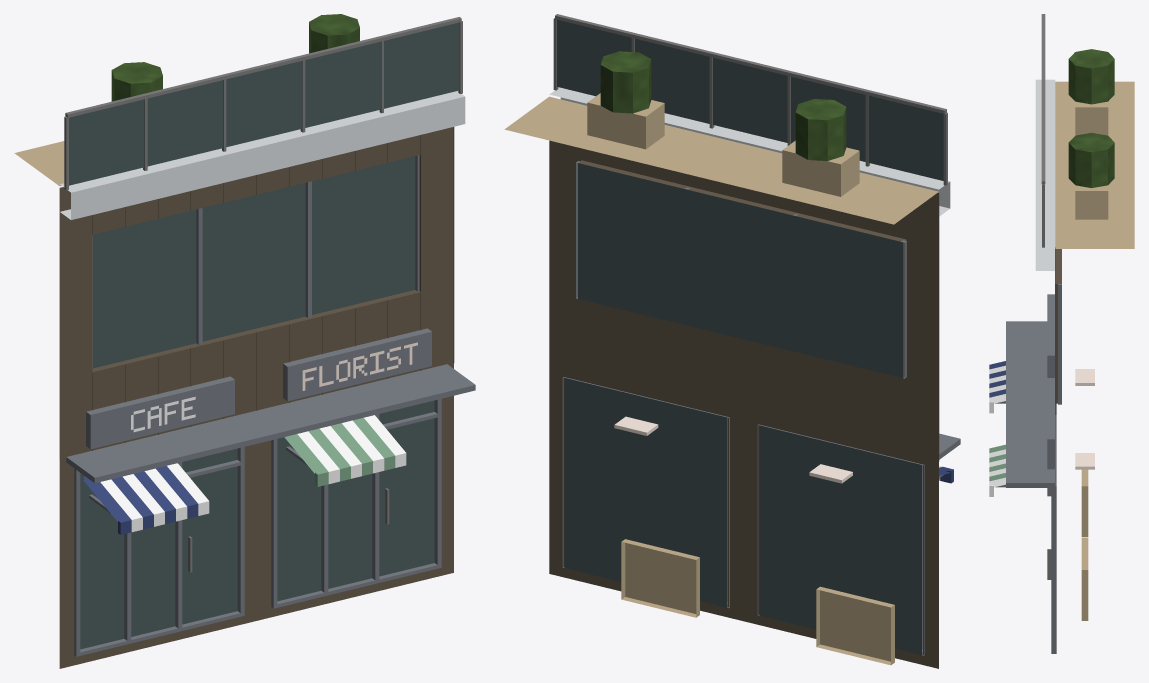
File: base-w1_close.fbx
3 views of the same model, side by side, from view 1: azimuth 30°, elevation 25°; view 2: azimuth 150°, elevation 25°; view 3: azimuth 270°, elevation 25° (orthographic). The views are drawn at different scales.
Visible parts, largest first — view 1: a2010/0/base-w1_close; view 2: a2010/0/base-w1_close; view 3: a2010/0/base-w1_close.
Boxes of the visible parts, x1,y1,x2,y2 form: a2010/0/base-w1_close: (14,14,475,668); a2010/0/base-w1_close: (504,14,960,668); a2010/0/base-w1_close: (989,14,1134,653).
Size of the model in its own units: 6.04 by 8.15 by 2.2.
